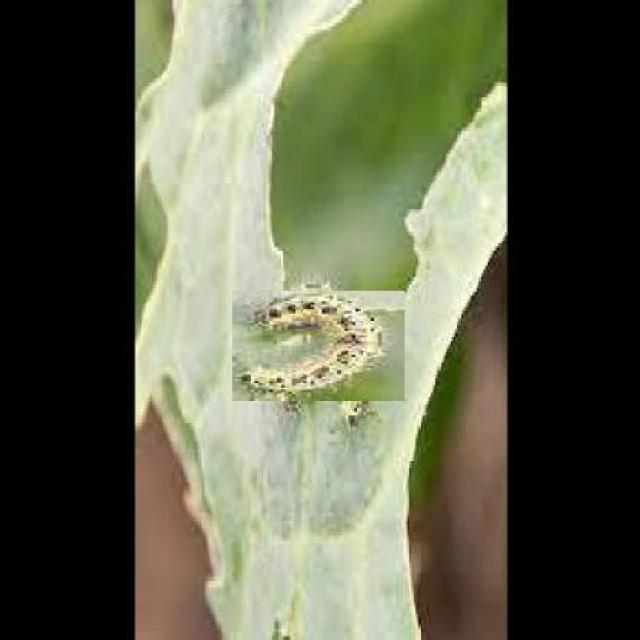Plaga: (249, 276, 392, 419)
